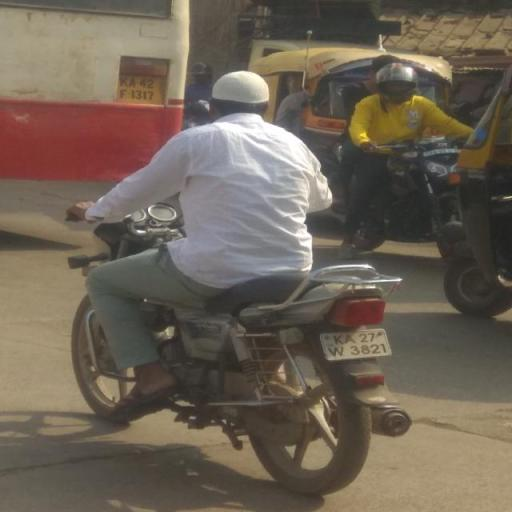bike: (60, 66, 424, 500)
numberplate: (318, 325, 392, 364)
withouthelmet: (216, 72, 266, 116)
